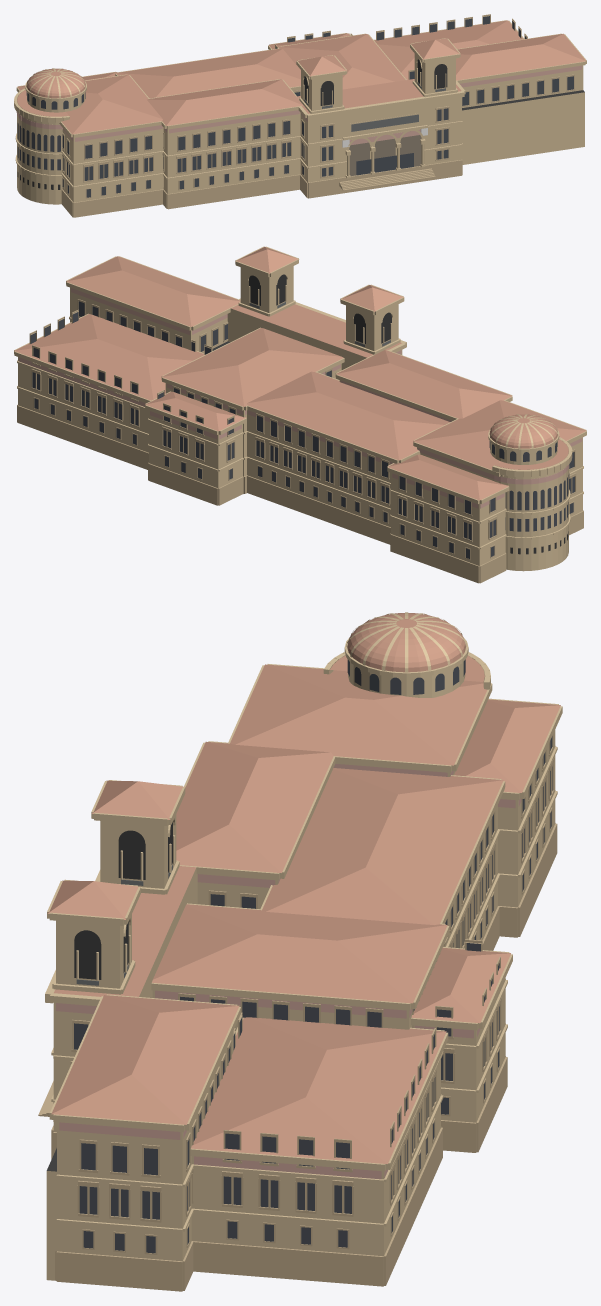
Rendered from biblioteca.glb.
The picture shows the model from 3 angles, top to bottom: view 1: azimuth 30°, elevation 25°; view 2: azimuth 150°, elevation 25°; view 3: azimuth 270°, elevation 25°; orthographic projection. The views are drawn at different scales.
Visible parts, largest first — view 1: biblioteca@1935-99999.roof, biblioteca@1935-99999.forte, biblioteca@1935-99999.fortedk, cantiere@1911-1934.forte, biblioteca@1935-99999.glass, tribuna@1929-99999.forte, biblioteca@1935-99999.pinkband, tribuna@1929-99999.roof, biblioteca@1935-99999.shade, tribuna@1929-99999.glass, biblioteca@1935-99999.dark, biblioteca@1935-99999.slate (+1 smaller); view 2: biblioteca@1935-99999.roof, biblioteca@1935-99999.forte, biblioteca@1935-99999.fortedk, tribuna@1929-99999.forte, biblioteca@1935-99999.glass, ala_mazzei@1962-99999.forte, ala_mazzei@1962-99999.fortedk, biblioteca@1935-99999.pinkband, ala_mazzei@1962-99999.roof, tribuna@1929-99999.roof, tribuna@1929-99999.glass, ala_mazzei@1962-99999.glass (+1 smaller); view 3: biblioteca@1935-99999.roof, biblioteca@1935-99999.forte, biblioteca@1935-99999.fortedk, biblioteca@1935-99999.glass, ala_mazzei@1962-99999.roof, biblioteca@1935-99999.pinkband, tribuna@1929-99999.roof, ala_mazzei@1962-99999.forte, tribuna@1929-99999.forte, ala_mazzei@1962-99999.fortedk, biblioteca@1935-99999.dark, cantiere@1911-1934.forte (+1 smaller).
Boxes of the visible parts, x1,y1,x2,y2 form: biblioteca@1935-99999.roof: (61, 20, 585, 134); biblioteca@1935-99999.forte: (59, 20, 586, 202); biblioteca@1935-99999.fortedk: (61, 14, 575, 217); cantiere@1911-1934.forte: (163, 92, 584, 192); biblioteca@1935-99999.glass: (62, 16, 573, 197); tribuna@1929-99999.forte: (14, 68, 86, 204); biblioteca@1935-99999.pinkband: (63, 65, 582, 144); tribuna@1929-99999.roof: (17, 68, 85, 116); biblioteca@1935-99999.shade: (349, 135, 421, 176); tribuna@1929-99999.glass: (17, 92, 85, 170); biblioteca@1935-99999.dark: (304, 59, 447, 105); biblioteca@1935-99999.slate: (304, 83, 445, 131); biblioteca@1935-99999.roof: (14, 246, 586, 469); biblioteca@1935-99999.forte: (14, 246, 586, 527); biblioteca@1935-99999.fortedk: (17, 299, 583, 544); tribuna@1929-99999.forte: (488, 414, 572, 571); biblioteca@1935-99999.glass: (30, 301, 574, 522); ala_mazzei@1962-99999.forte: (387, 463, 509, 565); ala_mazzei@1962-99999.fortedk: (390, 475, 506, 583); biblioteca@1935-99999.pinkband: (19, 288, 582, 479); ala_mazzei@1962-99999.roof: (388, 454, 508, 500); tribuna@1929-99999.roof: (489, 414, 568, 469); tribuna@1929-99999.glass: (489, 441, 569, 531); ala_mazzei@1962-99999.glass: (398, 476, 495, 559); biblioteca@1935-99999.roof: (47, 664, 510, 1163); biblioteca@1935-99999.forte: (45, 664, 512, 1261); biblioteca@1935-99999.fortedk: (38, 811, 507, 1291); biblioteca@1935-99999.glass: (74, 814, 499, 1253); ala_mazzei@1962-99999.roof: (454, 699, 560, 792); biblioteca@1935-99999.pinkband: (56, 763, 480, 1179); tribuna@1929-99999.roof: (330, 613, 484, 681); ala_mazzei@1962-99999.forte: (488, 698, 562, 907); tribuna@1929-99999.forte: (323, 612, 490, 697); ala_mazzei@1962-99999.fortedk: (498, 734, 557, 937); biblioteca@1935-99999.dark: (74, 822, 172, 979); cantiere@1911-1934.forte: (46, 1047, 190, 1280).
Bounding box in the file's own units: 139 × 35.8 × 64.33.
